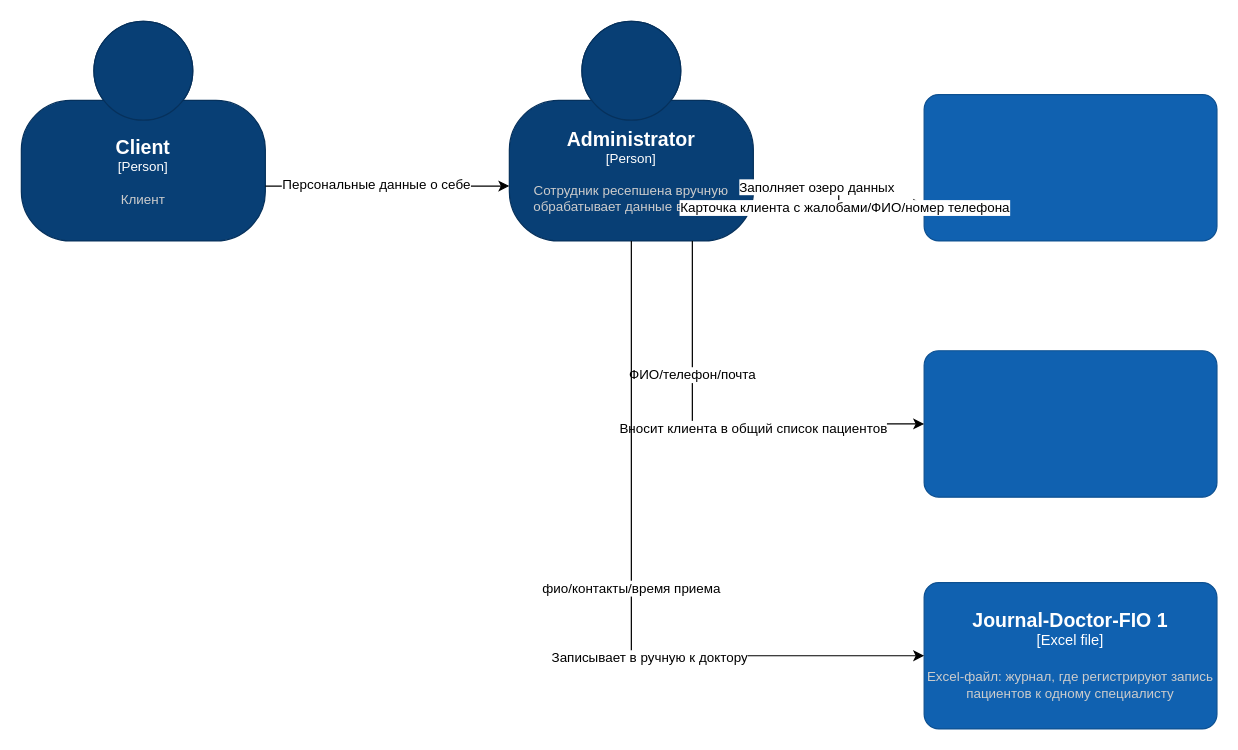
Image size: 1238x750. Some labels were removed from this diagram. The shapes that lost their labels are listed below. From the top down, each one's box as (x1, y1, x2, y2) in pixels, then its label:
(923, 93, 1217, 241): Data file 1 [Any file] Файлы пациента в разных форматах
(923, 350, 1217, 497): Patients [Excel file] Excel-файл со списком пациентов
